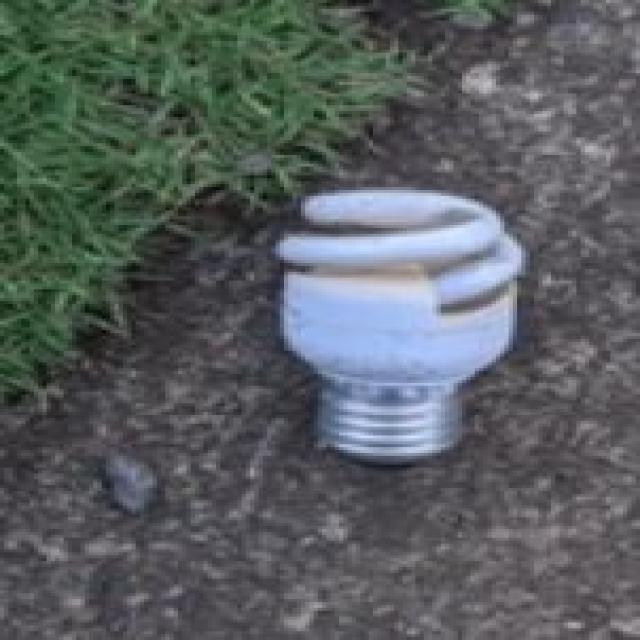electronic: (271, 184, 526, 465)
